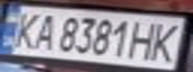1: (109, 17, 133, 59)
3: (75, 15, 96, 55)
8: (54, 12, 81, 54), (90, 16, 115, 57)
A: (30, 11, 60, 52)
H: (127, 18, 163, 62)
K: (145, 20, 187, 63), (6, 8, 45, 51)
